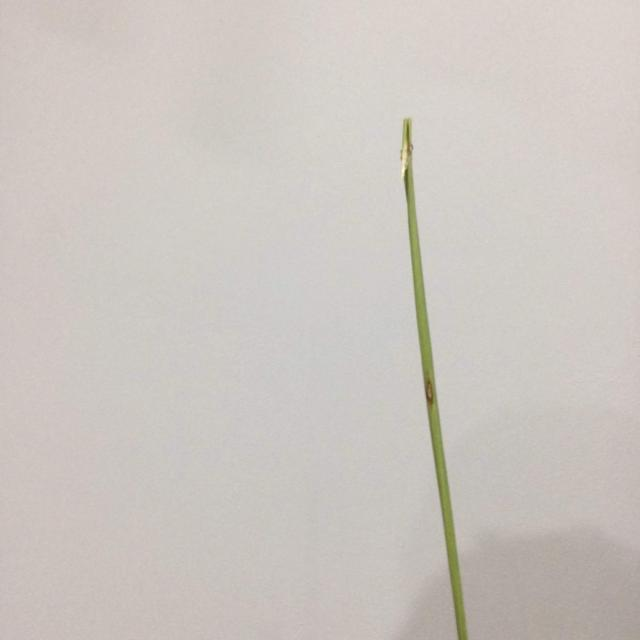Blast: (426, 376, 438, 404)
